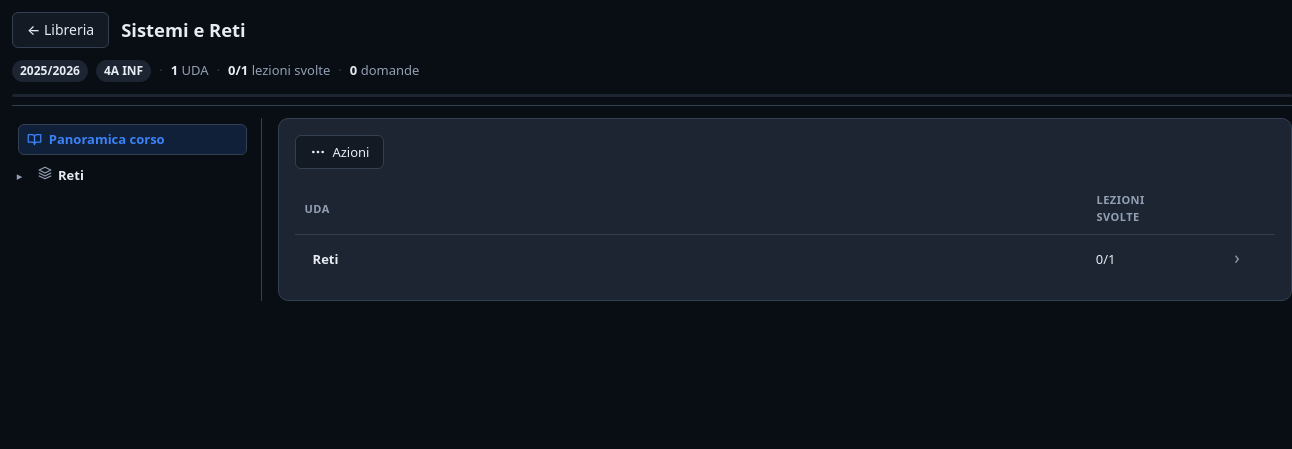
Test: CourseWorkspace — selection › shows a readable error when the lesson content fails to load
The image size is (1292, 449).
Expected: the button with aria-label "uda-01-reti" is shown, [30,160,253,190]
Click the button named "Espandi uda-01-reti" at (20, 175), box [12,164,27,187]
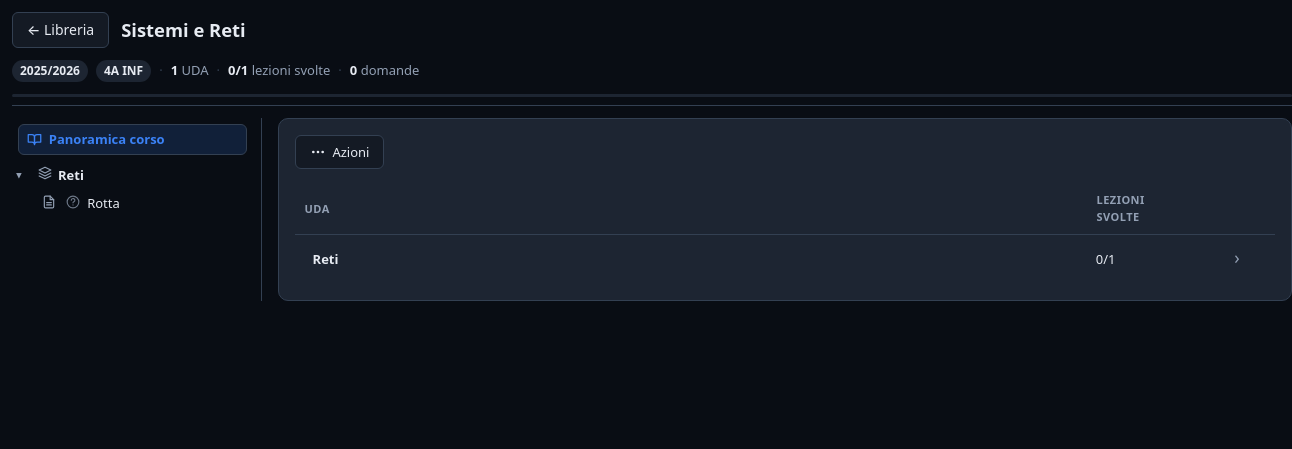
Click the button "Rotta" at (144, 204), box [34,190,253,218]
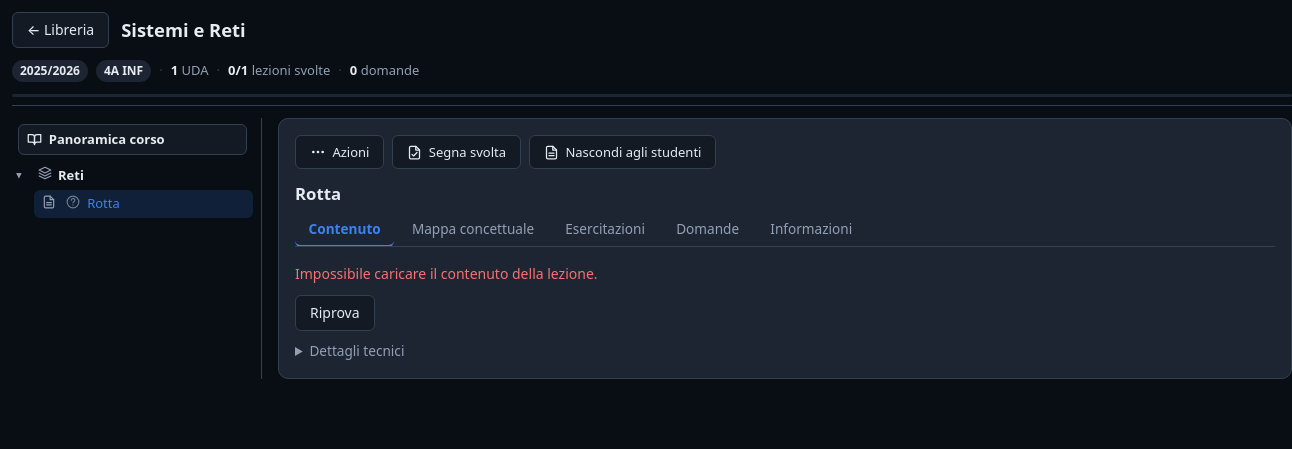
Result: the message "Impossibile caricare il contenuto della lezione. Riprova Dettagli tecnici" is shown at [295,264,598,360]
Result: the text "Impossibile caricare il contenuto della lezione." is shown at [295,263,598,286]
Click the button with aria-label "Azioni lezione" at (340, 152), box [295,135,384,169]
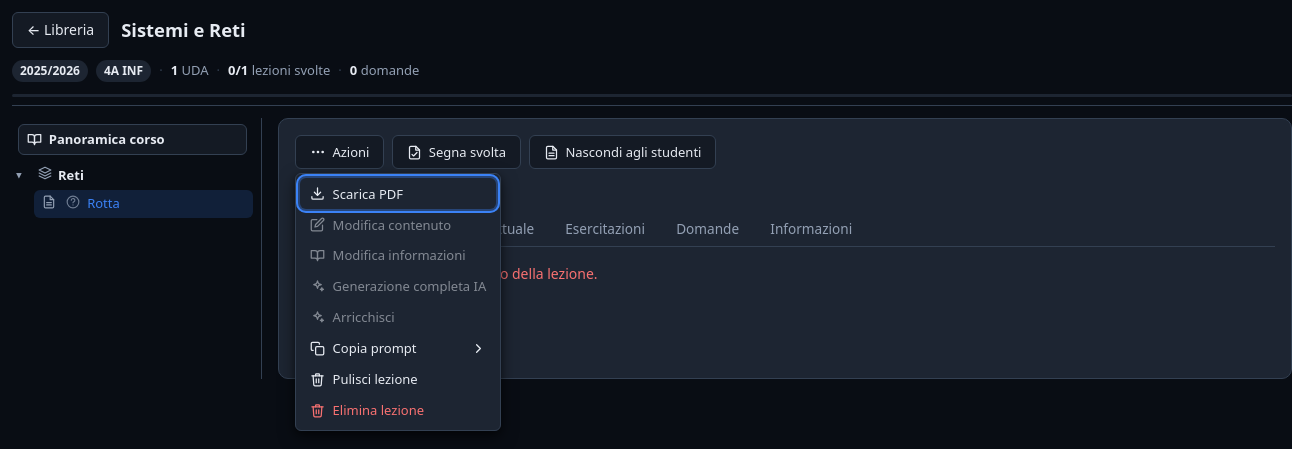
Result: the menu item "Arricchisci" is shown at [300,302,496,333]
